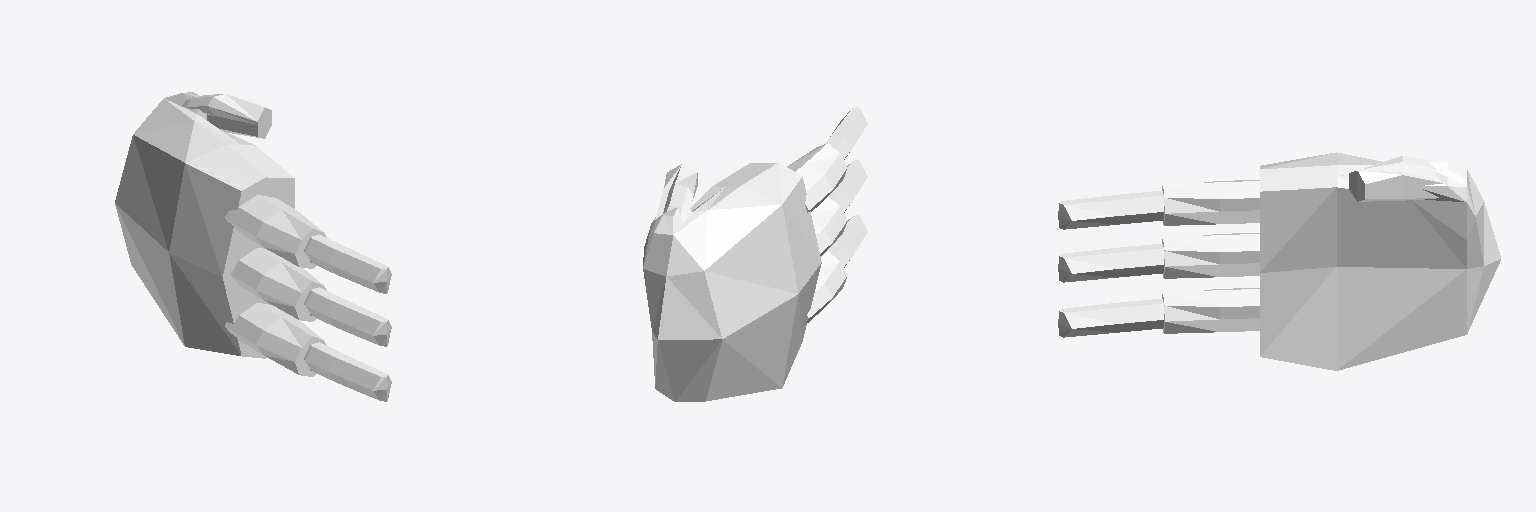
File: LowPolyHand.obj
3 renders of one model, left to right at view 1: azimuth 30°, elevation 25°; view 2: azimuth 150°, elevation 25°; view 3: azimuth 270°, elevation 25°, orthographic.
Parts seen in each view (by area): view 1: LowPolyHand; view 2: LowPolyHand; view 3: LowPolyHand.
Boxes of the visible parts, box(x1,y1,x2,y2) form: LowPolyHand: box(115, 92, 391, 401); LowPolyHand: box(643, 107, 867, 401); LowPolyHand: box(1058, 152, 1500, 370).
Bounding box in the file's own units: 0.052 × 0.0927 × 0.1701.